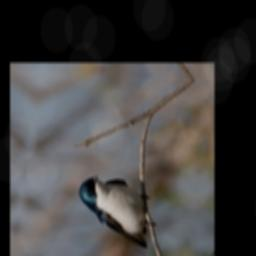Swallow: (70, 174, 165, 251)
